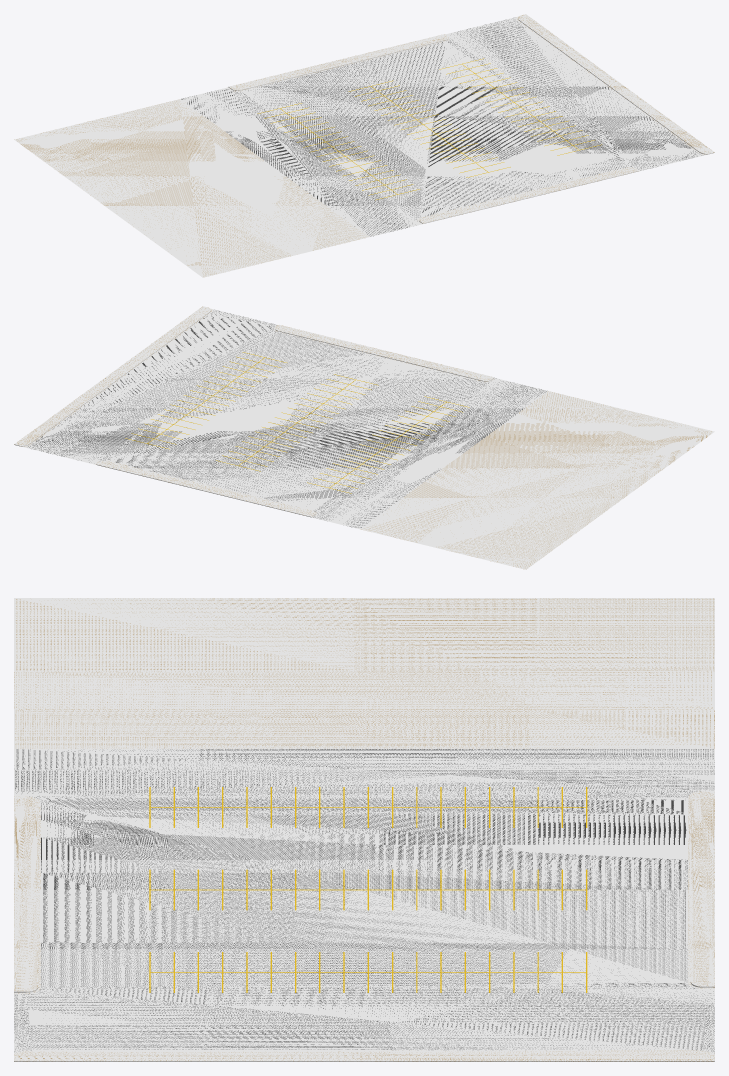
Rendered from ParkingLot.dae.
3 views of the same model, one above another, from view 1: azimuth 30°, elevation 25°; view 2: azimuth 150°, elevation 25°; view 3: azimuth 270°, elevation 25° (orthographic). The views are drawn at different scales.
Visible parts, largest first — view 1: ID611, ID541, ID590, ID632, ID603, ID574, ID582, ID554; view 2: ID611, ID541, ID590, ID632, ID603, ID574, ID554, ID582; view 3: ID611, ID541, ID590, ID632, ID603, ID574, ID554, ID582.
Boxes of the visible parts, x1=… form: ID611: x1=181, y1=17, x2=705, y2=237; ID541: x1=14, y1=99, x2=368, y2=277; ID590: x1=519, y1=14, x2=713, y2=153; ID632: x1=419, y1=167, x2=637, y2=222; ID603: x1=230, y1=34, x2=447, y2=90; ID574: x1=516, y1=14, x2=714, y2=154; ID582: x1=227, y1=34, x2=449, y2=91; ID554: x1=417, y1=167, x2=639, y2=224; ID611: x1=23, y1=309, x2=547, y2=529; ID541: x1=360, y1=391, x2=714, y2=569; ID590: x1=15, y1=306, x2=209, y2=445; ID632: x1=275, y1=325, x2=493, y2=380; ID603: x1=97, y1=461, x2=314, y2=516; ID574: x1=14, y1=306, x2=212, y2=446; ID554: x1=273, y1=324, x2=495, y2=382; ID582: x1=95, y1=460, x2=316, y2=517; ID611: x1=14, y1=748, x2=714, y2=1053; ID541: x1=14, y1=598, x2=714, y2=748; ID590: x1=16, y1=1051, x2=712, y2=1060; ID632: x1=15, y1=797, x2=36, y2=991; ID603: x1=692, y1=792, x2=713, y2=985; ID574: x1=14, y1=1050, x2=714, y2=1061; ID554: x1=14, y1=796, x2=40, y2=993; ID582: x1=688, y1=791, x2=714, y2=988.
Size of the model in its own units: 4298 by 4.4 by 2746.
6 materials, 3 textured.
